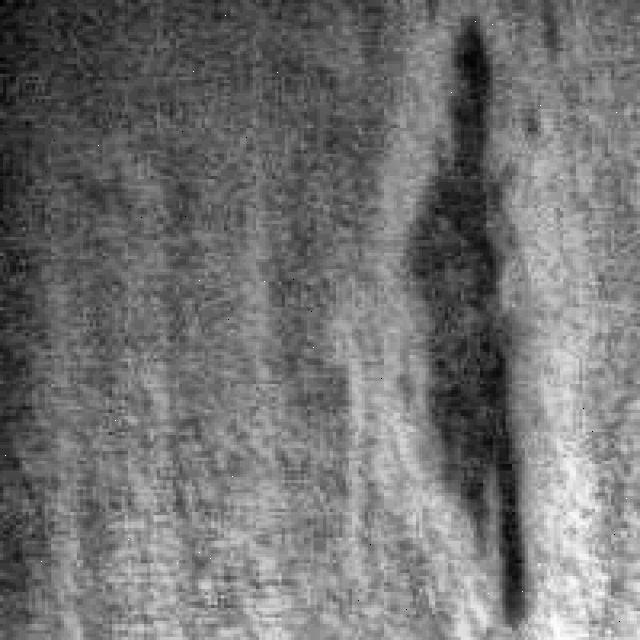Patches: (400, 6, 538, 628)
